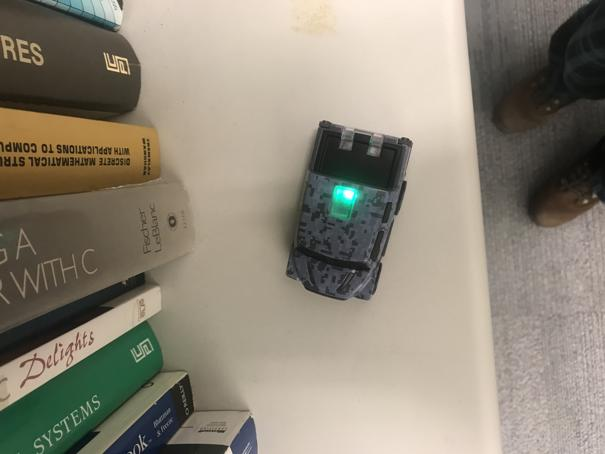MXT: (284, 118, 415, 301)
